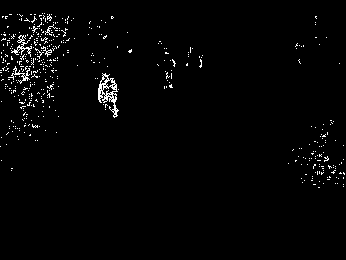person: (96, 72, 120, 119)
